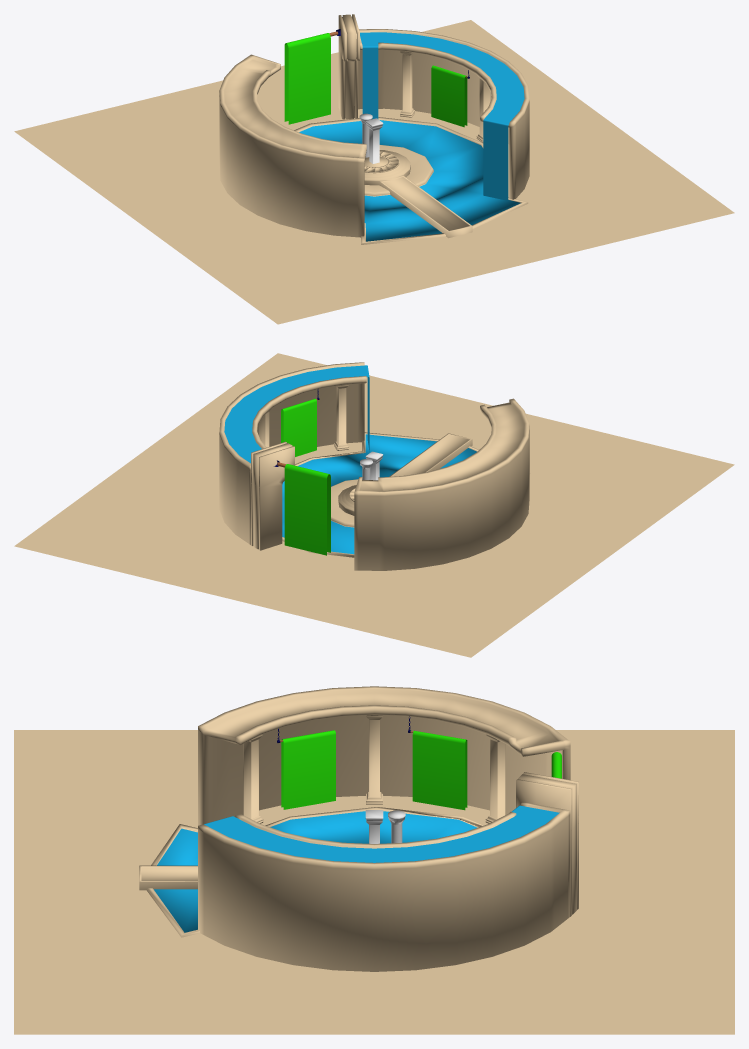
File: Escenario.glb
3 views of the same model, one above another, from view 1: azimuth 30°, elevation 25°; view 2: azimuth 150°, elevation 25°; view 3: azimuth 270°, elevation 25° (orthographic). The views are drawn at different scales.
Parts seen in each view (by area): view 1: Plane, RecipienteRio, Lago, Rio, Lona1, Escaleras, PilaresLaterales, Lona5, Pilar1, Centro, PilarPrueba2; view 2: Plane, RecipienteRio, Lago, Lona1, PilaresLaterales, Rio, Escaleras, Lona2, Pilar4; view 3: Plane, RecipienteRio, Lago, Rio, Lona3, Lona4, PilaresLaterales, Escaleras, Pilar2, Pilar3, Pilar6.
Part boxes in pixels (left/top/right/bottom): Plane: left=14, top=20, right=734, bottom=324; RecipienteRio: left=219, top=29, right=529, bottom=237; Lago: left=294, top=117, right=528, bottom=244; Rio: left=360, top=32, right=524, bottom=200; Lona1: left=284, top=33, right=330, bottom=124; Escaleras: left=364, top=150, right=472, bottom=238; PilaresLaterales: left=338, top=14, right=359, bottom=119; Lona5: left=431, top=65, right=467, bottom=127; Pilar1: left=400, top=51, right=414, bottom=117; Centro: left=364, top=151, right=399, bottom=173; PilarPrueba2: left=365, top=118, right=383, bottom=163; Plane: left=14, top=353, right=734, bottom=657; RecipienteRio: left=219, top=362, right=529, bottom=570; Lago: left=282, top=432, right=530, bottom=557; Lona1: left=284, top=464, right=330, bottom=555; PilaresLaterales: left=251, top=441, right=294, bottom=550; Rio: left=224, top=365, right=369, bottom=463; Escaleras: left=338, top=433, right=472, bottom=515; Lona2: left=281, top=398, right=316, bottom=456; Pilar4: left=334, top=384, right=348, bottom=450; Plane: left=14, top=730, right=734, bottom=1034; RecipienteRio: left=198, top=686, right=570, bottom=971; Lago: left=146, top=807, right=483, bottom=937; Rio: left=204, top=805, right=559, bottom=862; Lona3: left=412, top=730, right=467, bottom=810; Lona4: left=281, top=730, right=335, bottom=809; PilaresLaterales: left=516, top=772, right=578, bottom=916; Escaleras: left=139, top=865, right=197, bottom=890; Pilar2: left=243, top=734, right=263, bottom=823; Pilar3: left=485, top=734, right=505, bottom=823; Pilar6: left=366, top=715, right=382, bottom=804.
Bounding box in the file's own units: 166 × 39.59 × 166.
